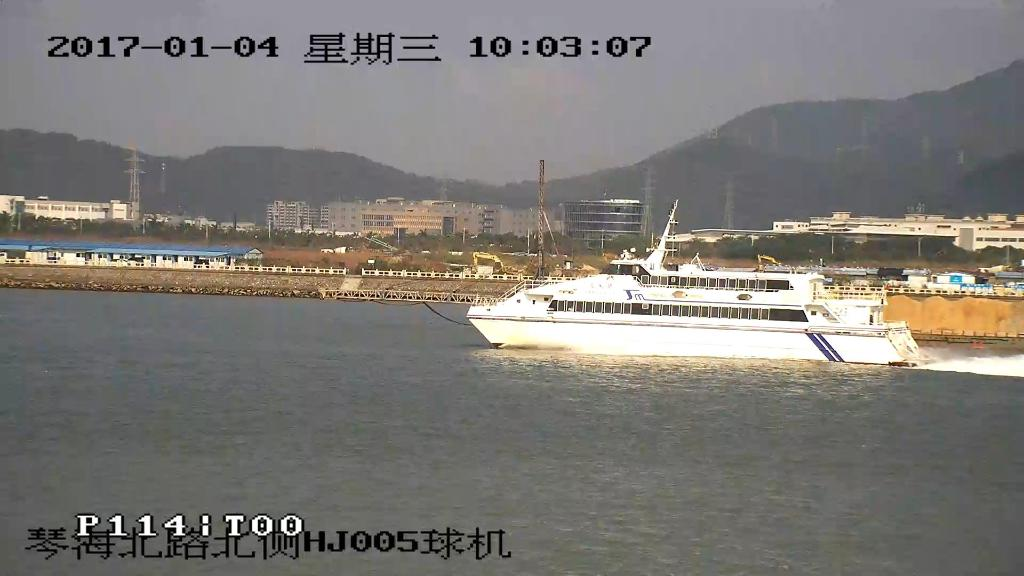PassengerShip: (462, 214, 938, 372)
